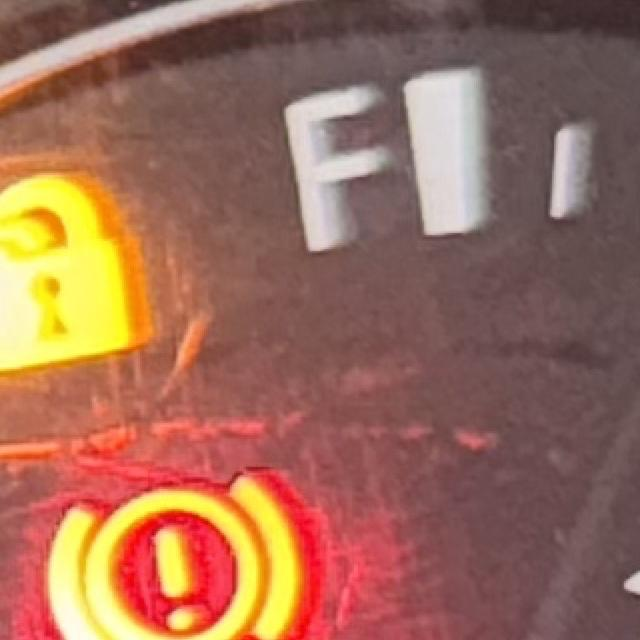Break System Issue: (42, 469, 317, 640)
